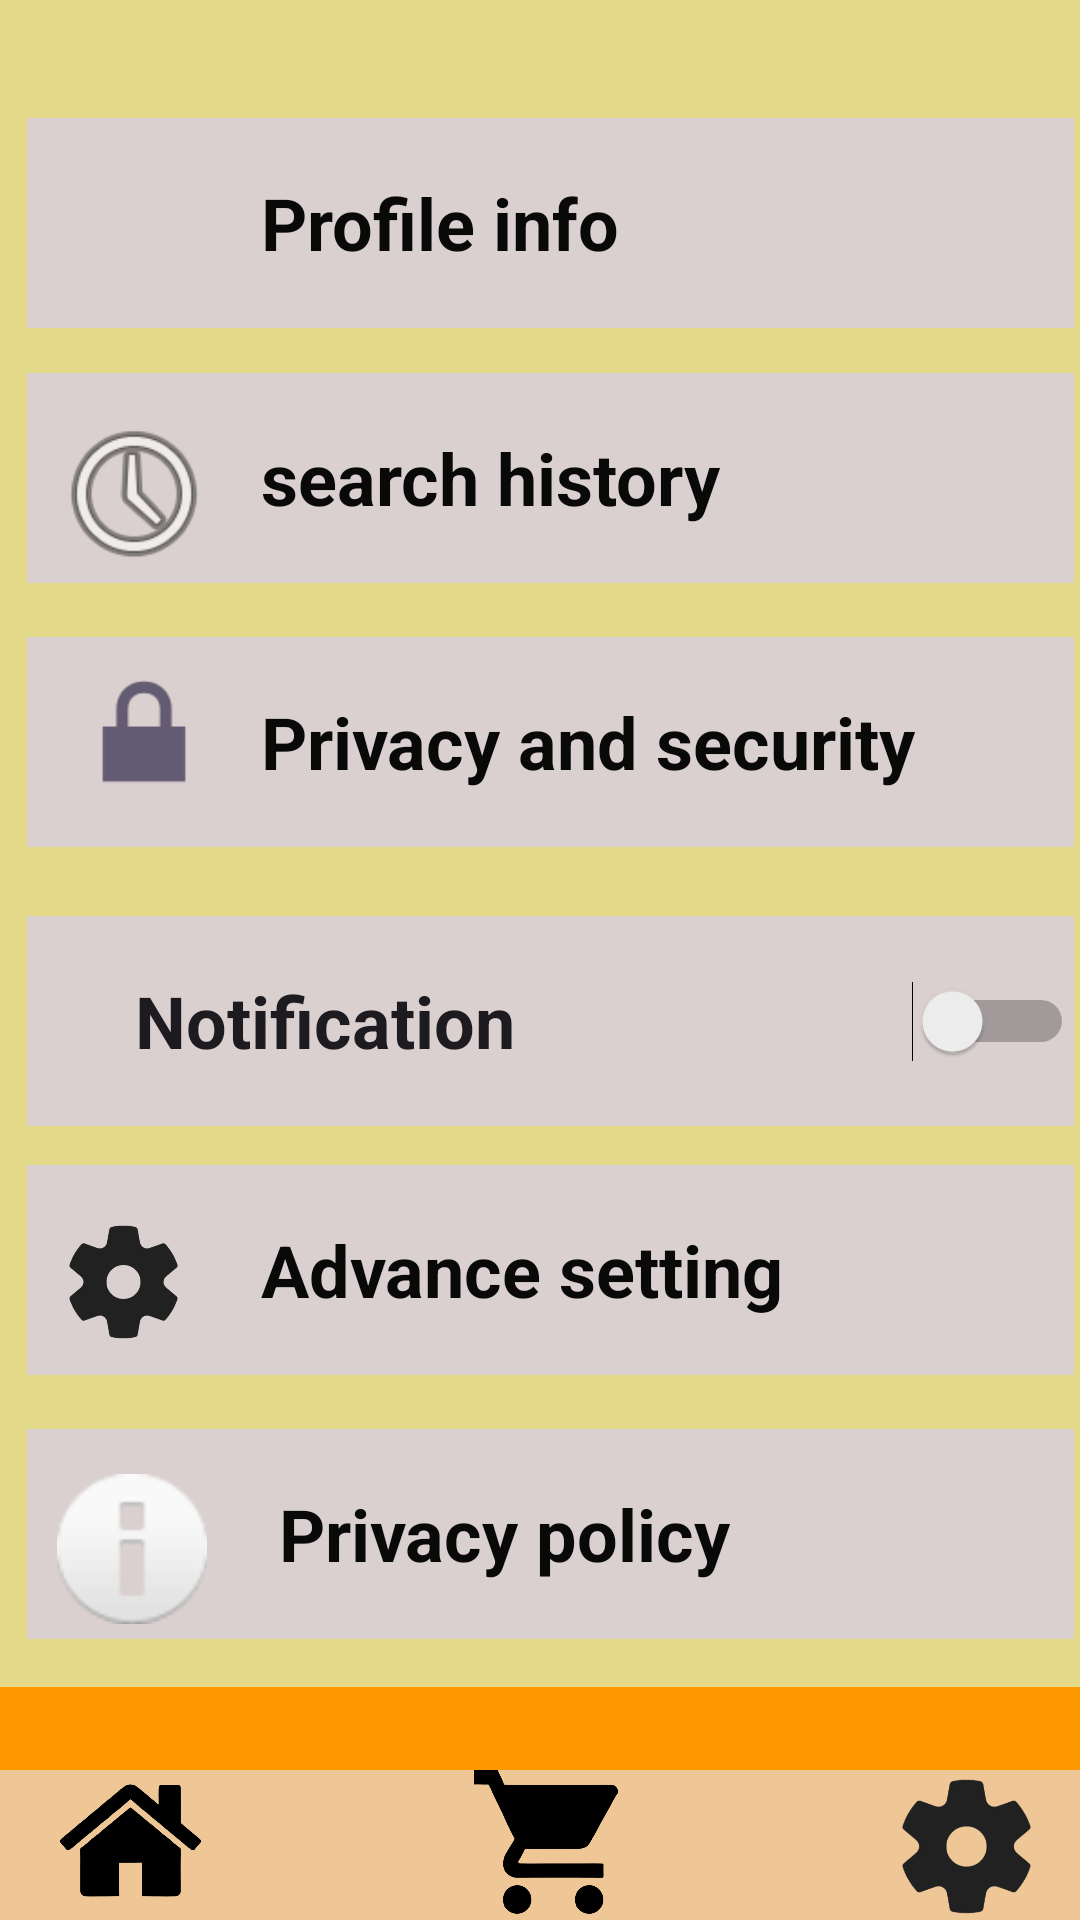

Locate icon controls on the screen. Image size 1080px x 1920px, boxes as (x1, y1, x2, y2).
info: (57, 1474, 207, 1624)
lock: (102, 681, 186, 782)
recent history: (71, 431, 197, 557)
